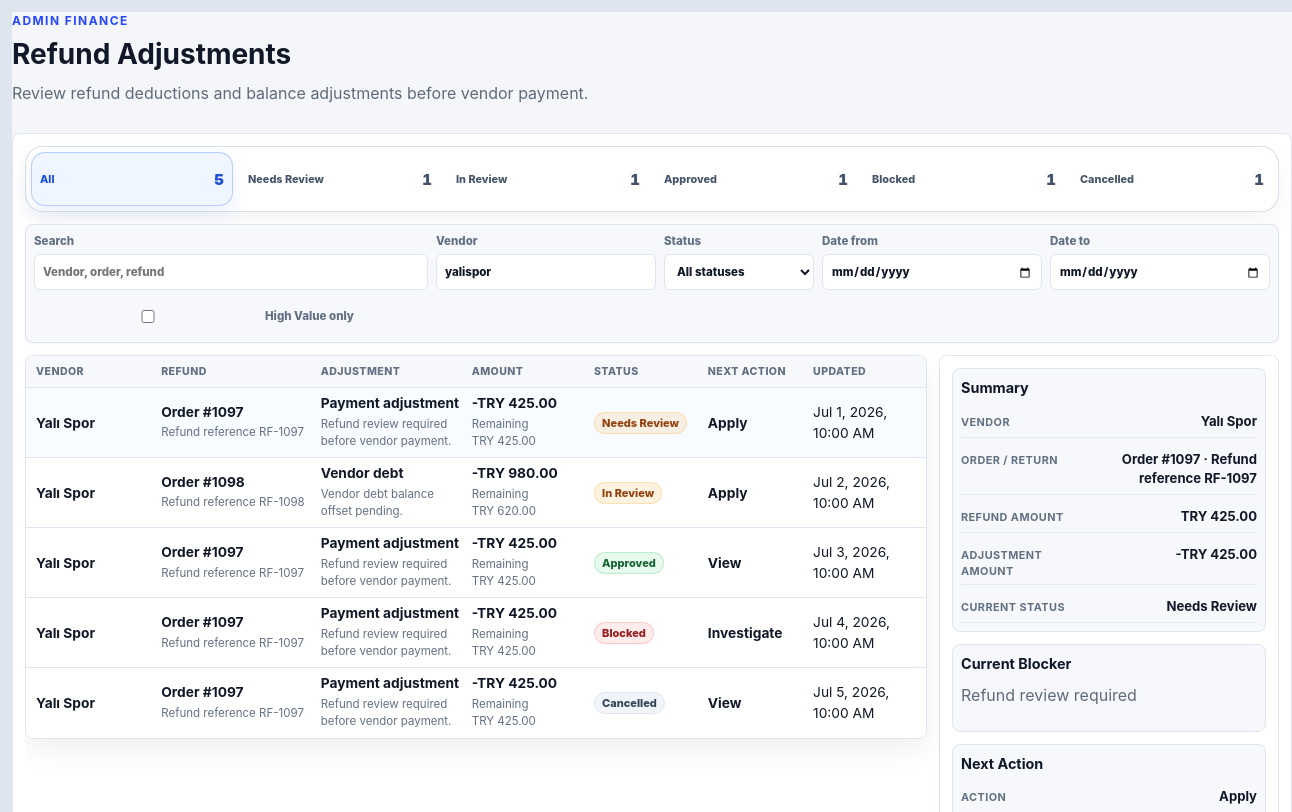
Test: AdminRefundAdjustmentsPage › filters queue records by workflow tab
Expected: the heading "Refund Adjustments" is shown, [12,37,291,71]
Click the button "Blocked 1": coordinates (964, 179) [863,152,1065,206]
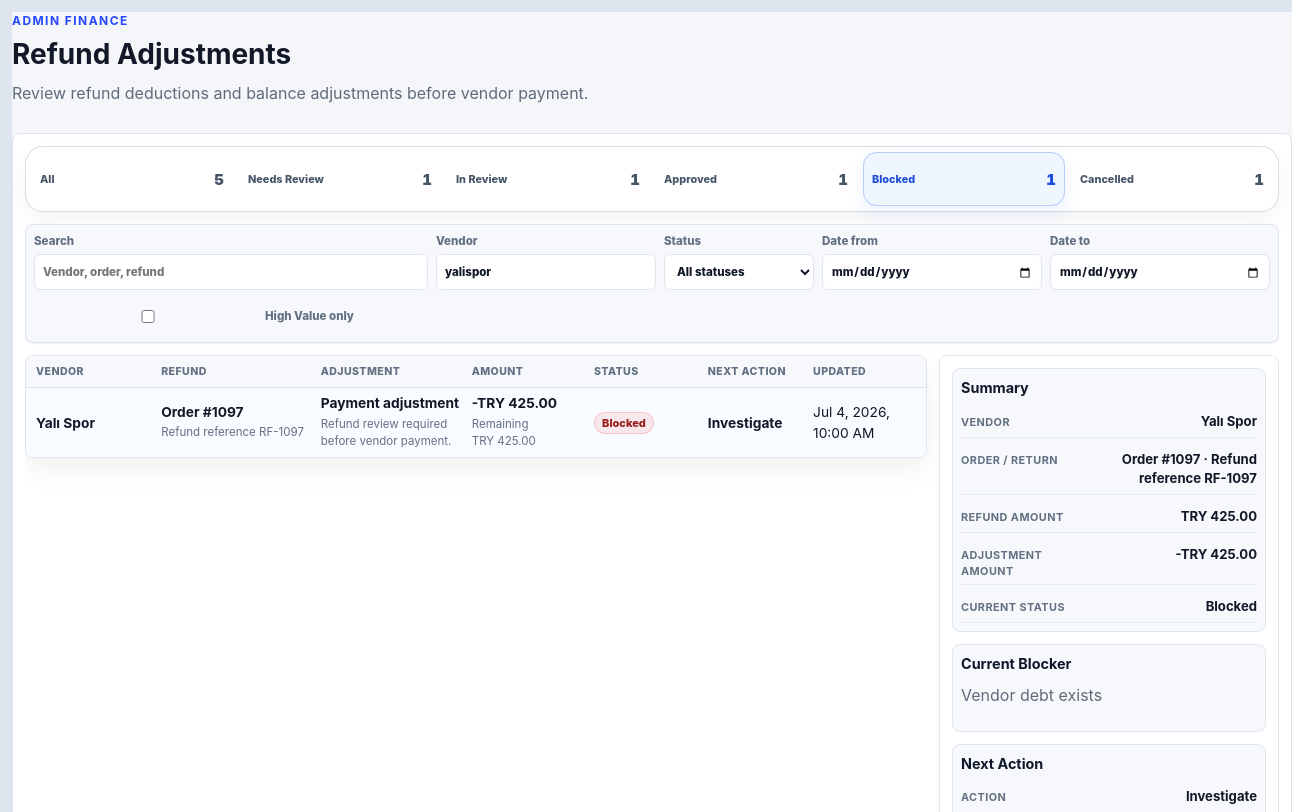
Now the text "Vendor debt exists" is shown, box [961,685,1102,705]
Now the button "balance offset" is gone
